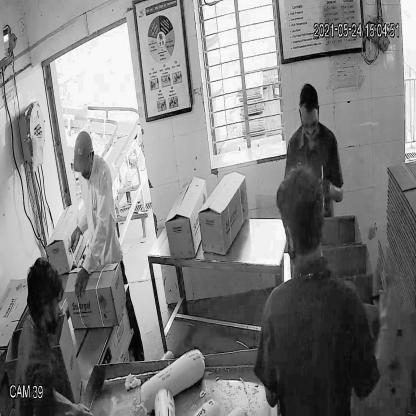goggles: (298, 108, 320, 136)
